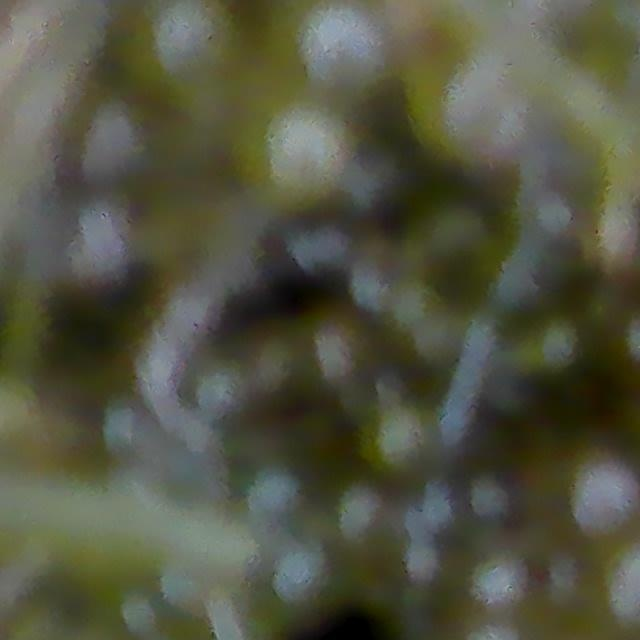SeaGrape: (228, 94, 353, 210), (282, 0, 387, 91), (556, 453, 640, 548), (568, 454, 640, 536), (270, 537, 331, 606)
